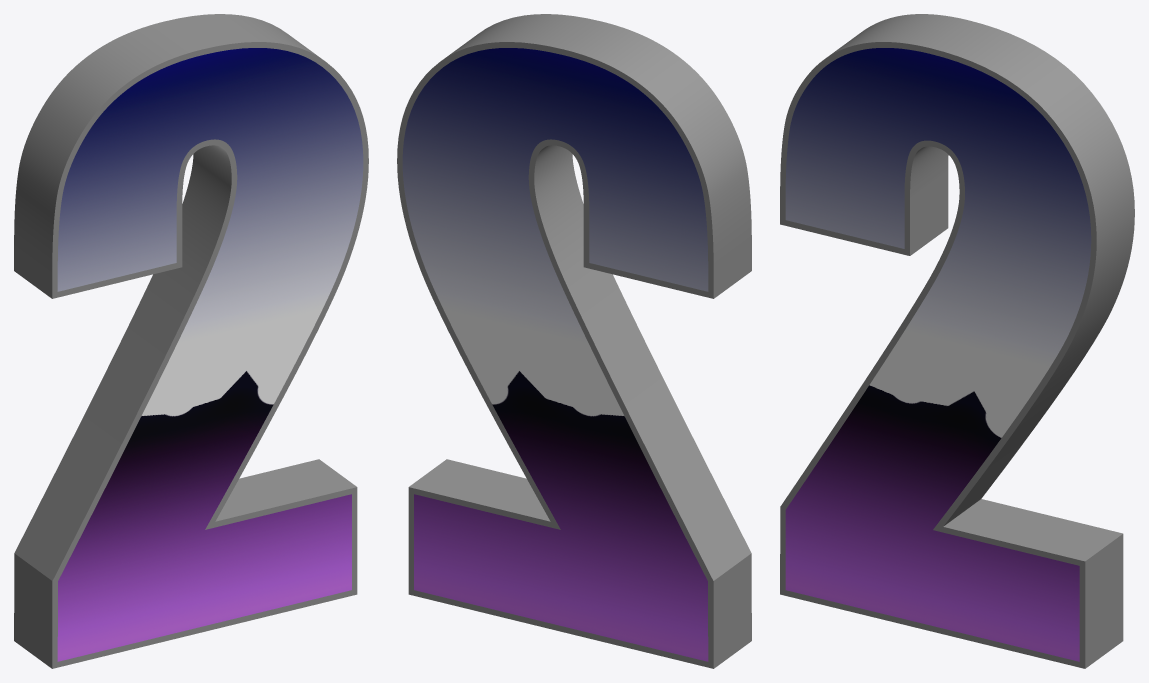
The picture shows the model from 3 angles, left to right: view 1: azimuth 30°, elevation 25°; view 2: azimuth 150°, elevation 25°; view 3: azimuth 330°, elevation 25°; orthographic projection.
Visible parts, largest first — view 1: 2, 2_outline; view 2: 2, 2_outline; view 3: 2, 2_outline.
Part boxes in pixels (x1,y1,x2,y2): 2: (57,48,363,661); 2_outline: (14,14,368,668); 2: (402,48,708,661); 2_outline: (397,14,751,668); 2: (785,48,1091,661); 2_outline: (780,14,1134,668).
Bounding box in the file's own units: 57.5 × 101 × 12.
Materials: 2 (1 with a texture image).
